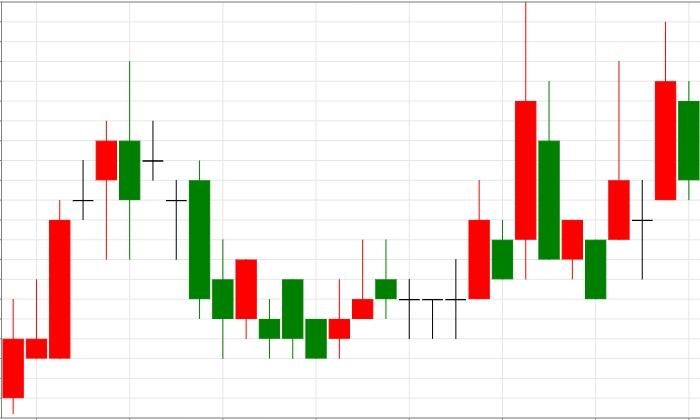bearish_engulfing_fall: (2, 61, 141, 414)
